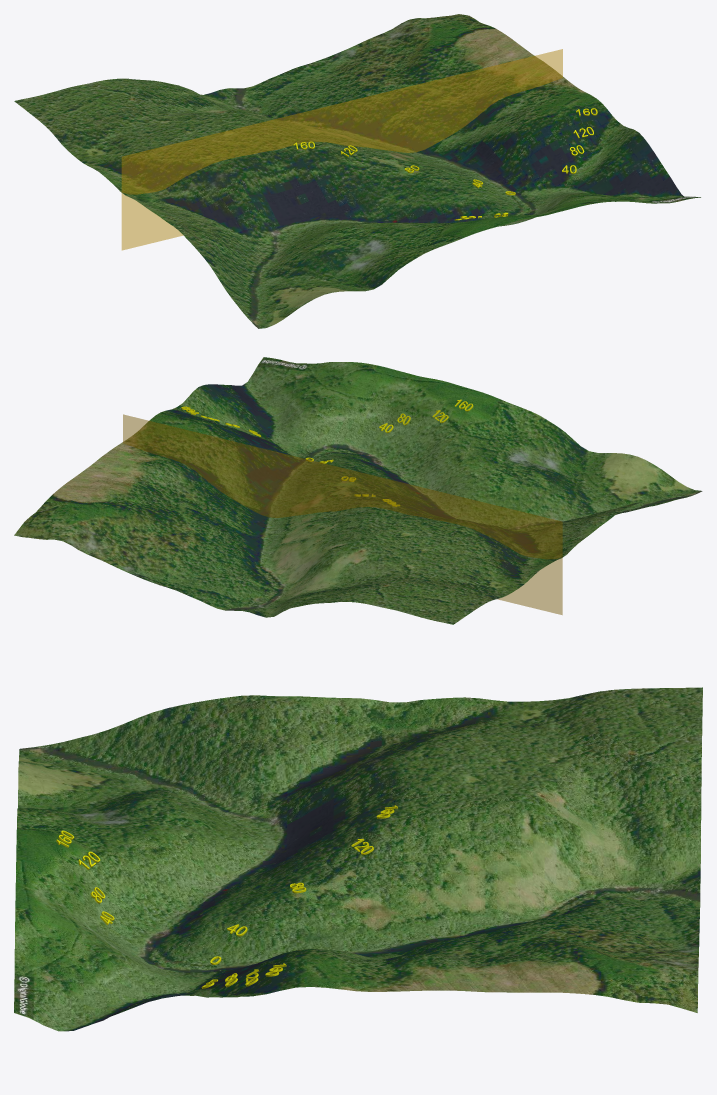
Rendered from SaoJoseAusentes2a.glb.
3 renders of one model, top to bottom at view 1: azimuth 30°, elevation 25°; view 2: azimuth 150°, elevation 25°; view 3: azimuth 270°, elevation 25°, orthographic. The views are drawn at different scales.
Visible parts, largest first — view 1: Location Terrain, root; view 2: Location Terrain, root; view 3: Location Terrain.
Part boxes in pixels (bbox=[...]): Location Terrain: bbox=[14, 14, 700, 328]; root: bbox=[121, 49, 562, 250]; Location Terrain: bbox=[14, 357, 702, 624]; root: bbox=[123, 414, 562, 614]; Location Terrain: bbox=[14, 687, 702, 1031].
Bounding box in the file's own units: 2014 × 406 × 1950.
Materials: 3 (1 with a texture image).
